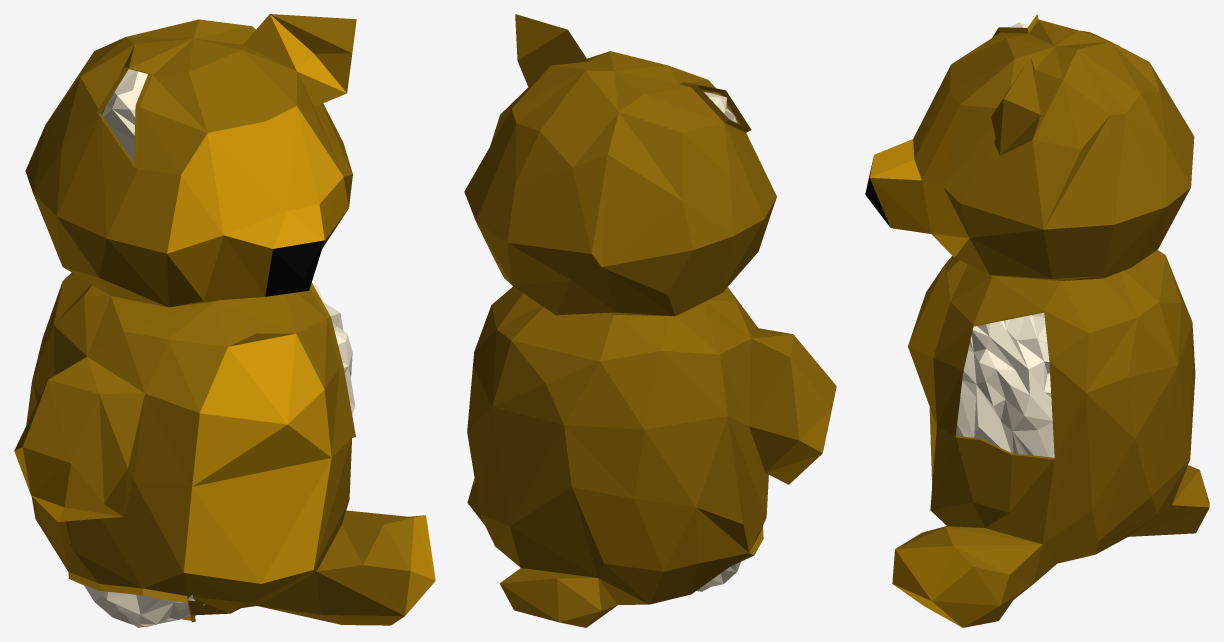
Rendered from stm_env_TeddyBearTorn.fbx.
The picture shows the model from 3 angles, left to right: view 1: azimuth 30°, elevation 25°; view 2: azimuth 150°, elevation 25°; view 3: azimuth 270°, elevation 25°; orthographic projection. The views are drawn at different scales.
Parts seen in each view (by area): view 1: Torn_Bear; view 2: Torn_Bear; view 3: Torn_Bear.
Boxes of the visible parts, <box> form: Torn_Bear: <box>14,14,435,627</box>; Torn_Bear: <box>464,14,836,627</box>; Torn_Bear: <box>865,14,1209,627</box>.
Size of the model in its own units: 282 by 410 by 241.
